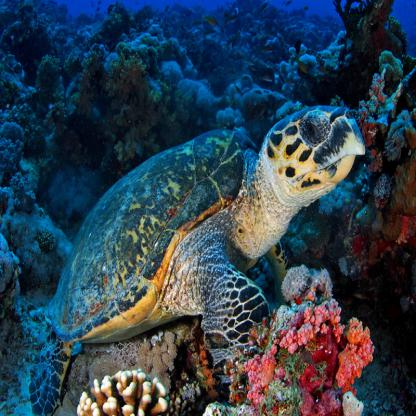turtle: (258, 95, 368, 220)
